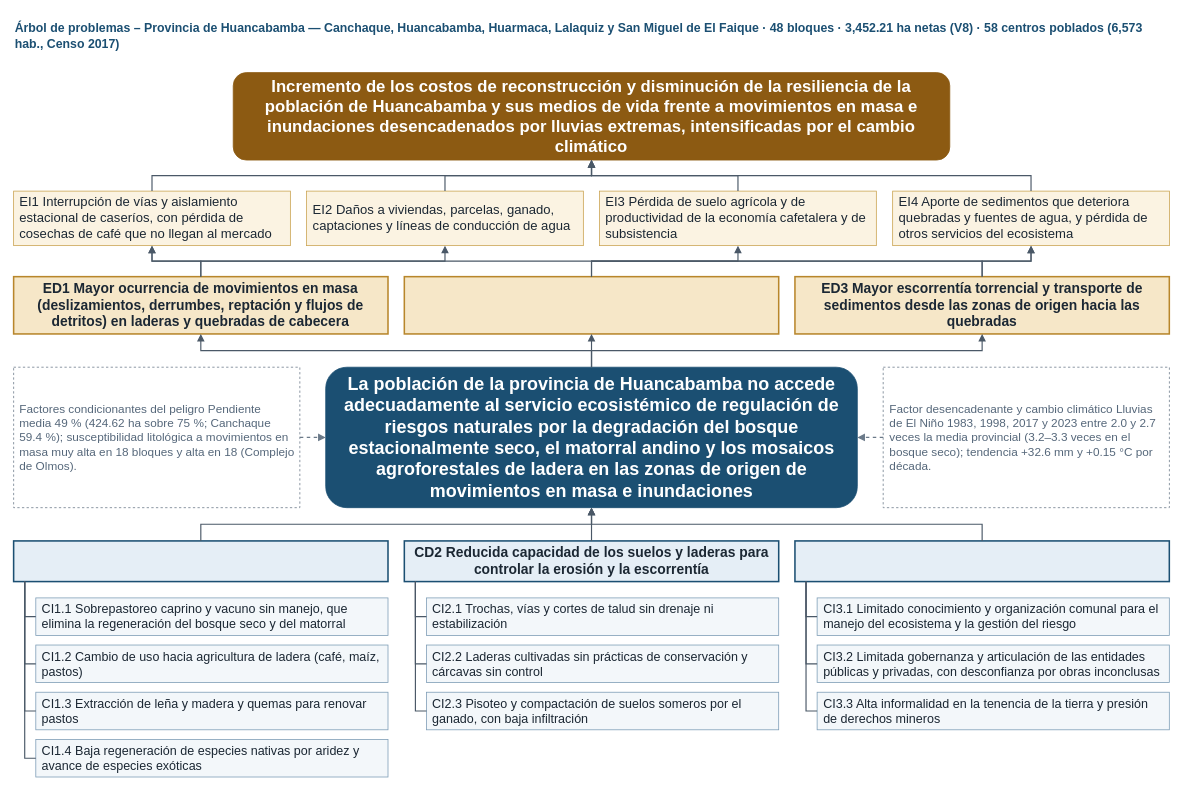
The diagram is 1183 pixels wide and 791 high, and some of its shapes have lost their labels. Each missing label, with the centre of its shape:
CD1 Degradación de la cobertura vegetal protectora en las zonas de origen: point (200, 561)
CD3 Inadecuada gobernanza y gestión local del ecosistema y del riesgo: point (982, 561)
ED2 Erosión hídrica acelerada y pérdida de suelo en laderas (surcos y cárcavas): point (591, 305)
